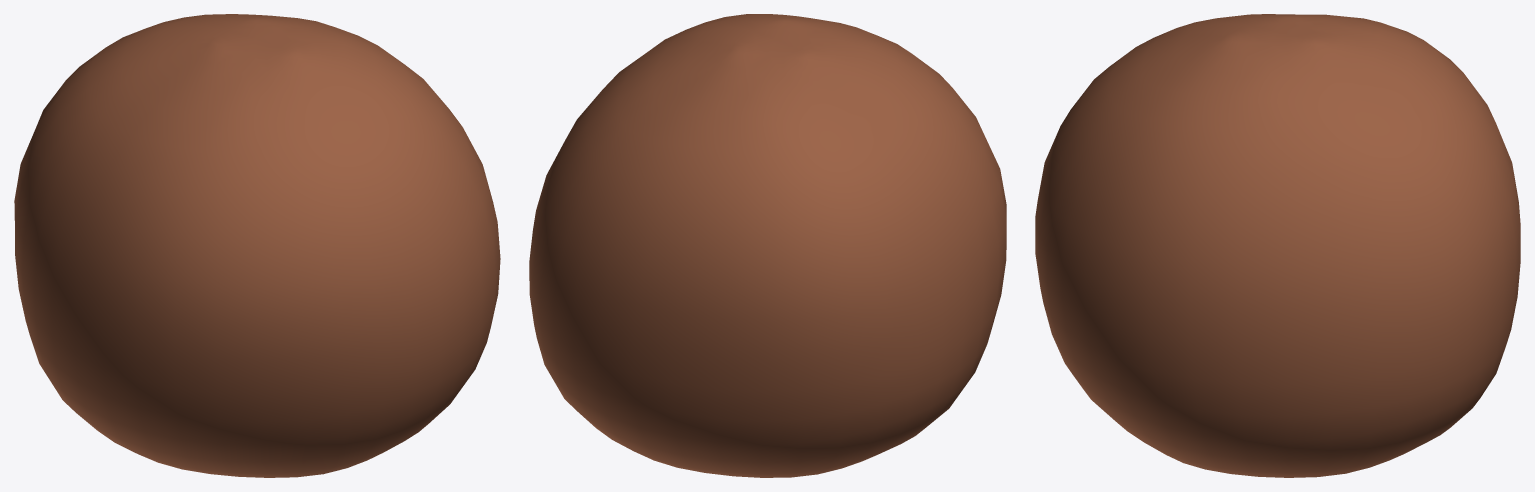
The model's file is Coconut_08.dae.
The picture shows the model from 3 angles, left to right: view 1: azimuth 30°, elevation 25°; view 2: azimuth 150°, elevation 25°; view 3: azimuth 270°, elevation 25°; orthographic projection.
Visible parts, largest first — view 1: Coconut_08_LOD0; view 2: Coconut_08_LOD0; view 3: Coconut_08_LOD0.
Part boxes in pixels (x1=…): Coconut_08_LOD0: x1=14, y1=14, x2=500, y2=477; Coconut_08_LOD0: x1=529, y1=14, x2=1006, y2=477; Coconut_08_LOD0: x1=1035, y1=14, x2=1520, y2=477.
Size of what is drawn, in the model's own units: 3.96 by 4.12 by 3.82.
